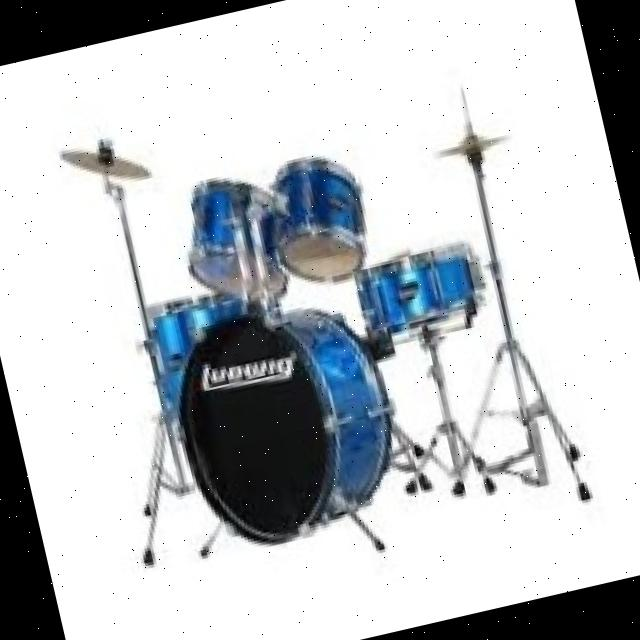drums: (38, 42, 605, 603)
